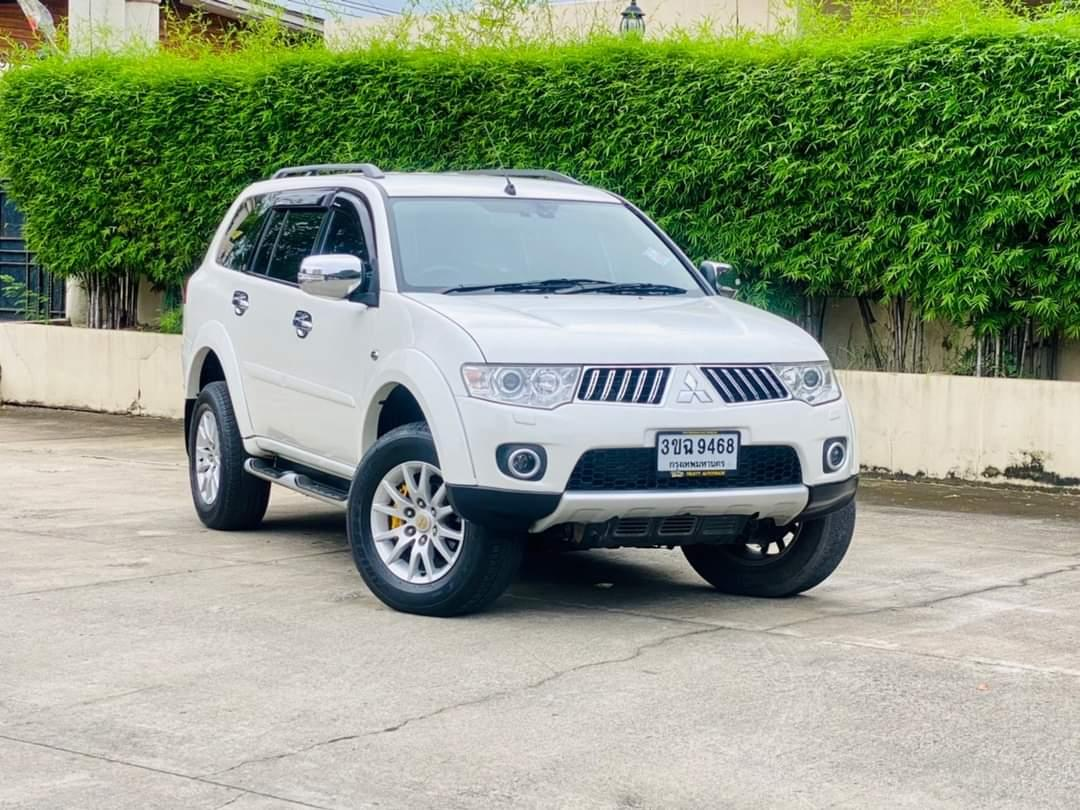license-plate: (655, 430, 742, 481)
